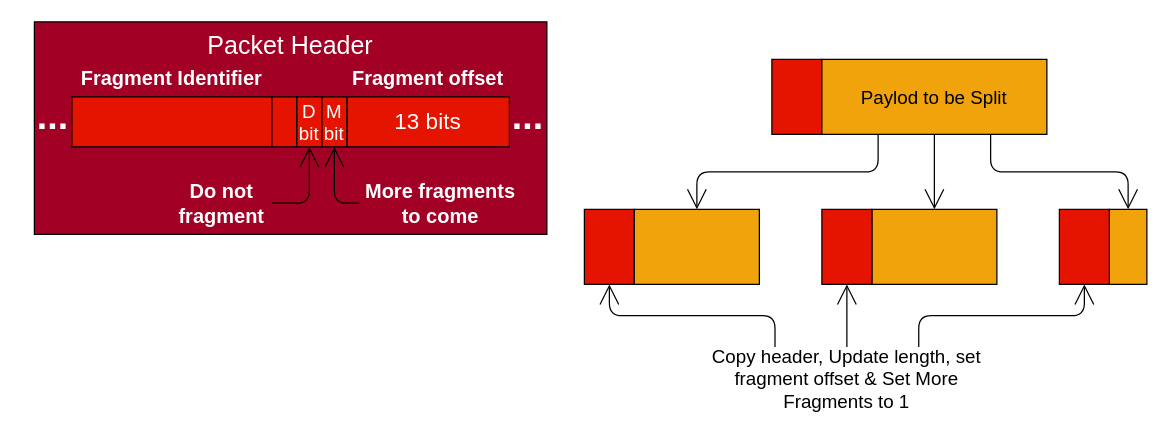
Image size: 1170x434. Some labels were removed from this diagram. Here are the shapes that lost their labels. From the top down, the centre of each, then its label:
point (171, 121): 16 bits
point (284, 121): x bit
